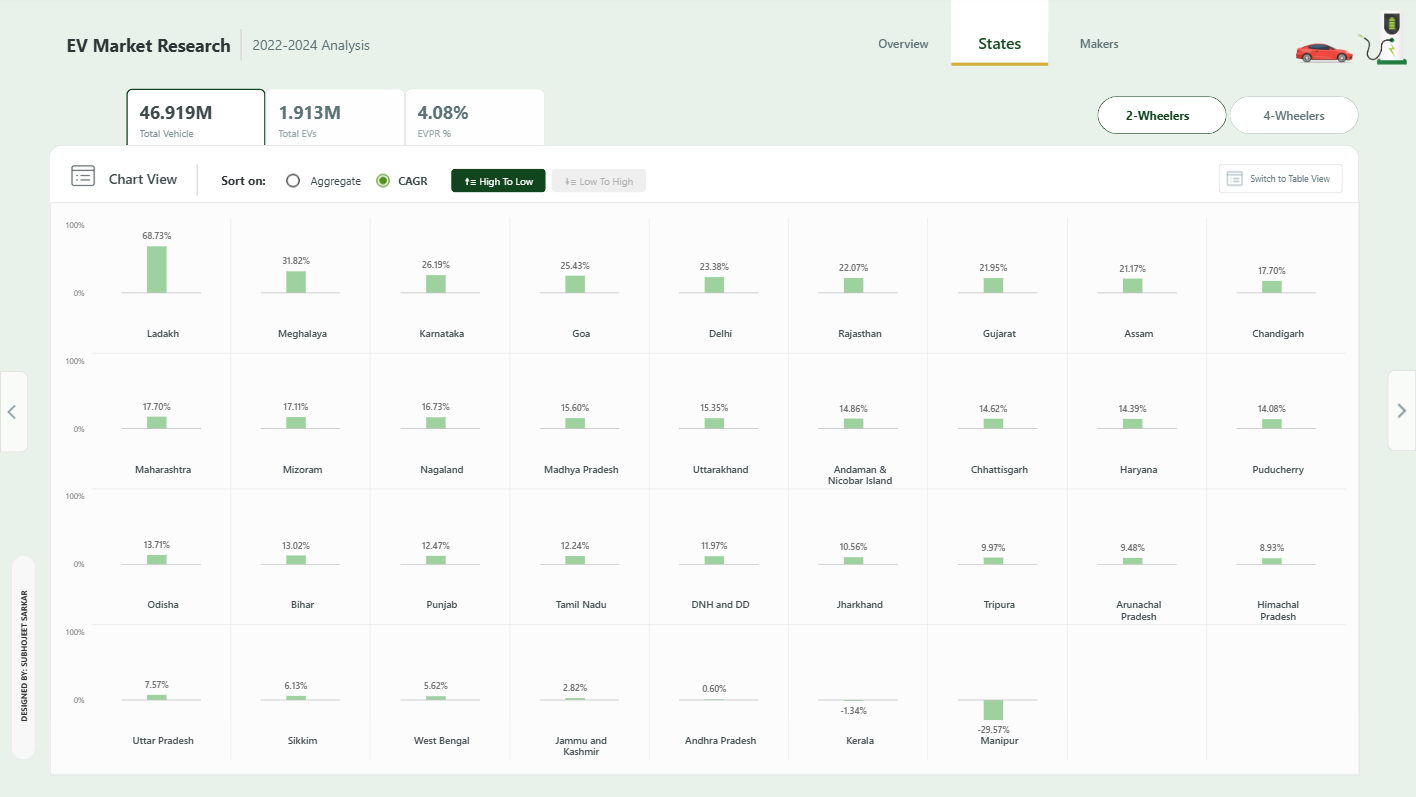

Layout of this report page (visuals, bound fields, positions):
{"tool":"powerbi","page":{"name":"States: 2","canvas":[1920,1080],"ordinal":3},"visuals":[{"type":"advancedSlicerVisual","title":"Slicer :Total Sales/EV Sales/EVPR%","fields":{"Values":["Param 0201: Total Sales/EV Sales/EVPR%.Total Sales/EV Sales/EVPR%"],"Label":["KPIs.Lbl Switch 1"]},"box":[171,116,568,88],"z":0},{"type":"clusteredColumnChart","fields":{"Y":["KPIs.CAGR"],"Rows":["electric_vehicle_sales_by_state.State"]},"box":[67,274.3,1776,777.1],"z":0,"group":"g1"},{"type":"shape","title":"Container Frame","box":[66.7,196.7,1776.7,853.3],"z":1000},{"type":"actionButton","title":"Aggregate Radio Button","box":[380,228,112,32],"z":1000,"group":"g1"},{"type":"image","box":[1753.3,25,86.8,93.5],"z":2000},{"type":"actionButton","title":"Aggregate Radio Button","box":[502,228,80,32],"z":2000,"group":"g1"},{"type":"image","box":[1828.2,0,91.8,100.2],"z":3000},{"type":"actionButton","box":[1158.8,33.8,131.2,48.8],"z":4000},{"type":"actionButton","box":[1290,36.3,131.4,48.6],"z":5000},{"type":"shape","box":[1290,75,131.7,25],"z":6000},{"type":"shape","box":[1290,0,131.7,45],"z":7000},{"type":"actionButton","box":[1425.6,33.3,130,48.9],"z":8000},{"type":"actionButton","box":[0,503.3,38.3,110],"z":9000},{"type":"actionButton","box":[1881.2,502.5,38.8,110],"z":10000},{"type":"shape","title":"Label :Sort Order","box":[300,218,72,50],"z":11000},{"type":"shape","box":[146.7,221.7,116.7,40],"z":12000},{"type":"shape","box":[261.4,221.2,12.9,44.3],"z":13000},{"type":"advancedSlicerVisual","title":"Slicer: SORT_Order","fields":{"Values":["0201_SORT Order.SORT_Order"]},"box":[612,228,264,32],"z":14000},{"type":"group","id":"g1","title":"CAGR by State Chart ","box":[67,228,1776,823.4],"z":16000},{"type":"actionButton","box":[1652,222,168,40],"z":17000},{"type":"shape","box":[90.5,41.6,229.8,36.2],"z":18000},{"type":"shape","box":[320,38.5,13.3,43.3],"z":19000},{"type":"shape","box":[341.6,41.9,268.3,36.7],"z":20000},{"type":"actionButton","box":[15,752,33,278],"z":21000},{"type":"advancedSlicerVisual","fields":{"Values":["Dim_Vehicle_type.Description"]},"box":[1488.3,130,355,51.7],"z":22000},{"type":"image","box":[90,209.8,45.7,55.7],"z":23000}]}

Visuals, with their boxes in screenshot pixels (x1, y1, x2, y2), scaled from the page's 1920x1080 canvas onto the 1416x797 screenshot:
"Slicer :Total Sales/EV Sales/EVPR%" advancedSlicerVisual: [126,86,545,151]
clusteredColumnChart - KPIs.CAGR x electric_vehicle_sales_by_state.State: [49,202,1359,776]
"Container Frame" shape: [49,145,1360,775]
"Aggregate Radio Button" actionButton: [280,168,363,192]
image: [1293,18,1357,87]
"Aggregate Radio Button" actionButton: [370,168,429,192]
image: [1348,0,1415,74]
actionButton: [855,25,951,61]
actionButton: [951,27,1048,63]
shape: [951,55,1049,74]
shape: [951,0,1049,33]
actionButton: [1051,25,1147,61]
actionButton: [0,371,28,453]
actionButton: [1387,371,1415,452]
"Label :Sort Order" shape: [221,161,274,198]
shape: [108,164,194,193]
shape: [193,163,202,196]
"Slicer: SORT_Order" advancedSlicerVisual: [451,168,646,192]
"CAGR by State Chart " group: [49,168,1359,776]
actionButton: [1218,164,1342,193]
shape: [67,31,236,57]
shape: [236,28,246,60]
shape: [252,31,450,58]
actionButton: [11,555,35,760]
advancedSlicerVisual - Dim_Vehicle_type.Description: [1098,96,1359,134]
image: [66,155,100,196]
